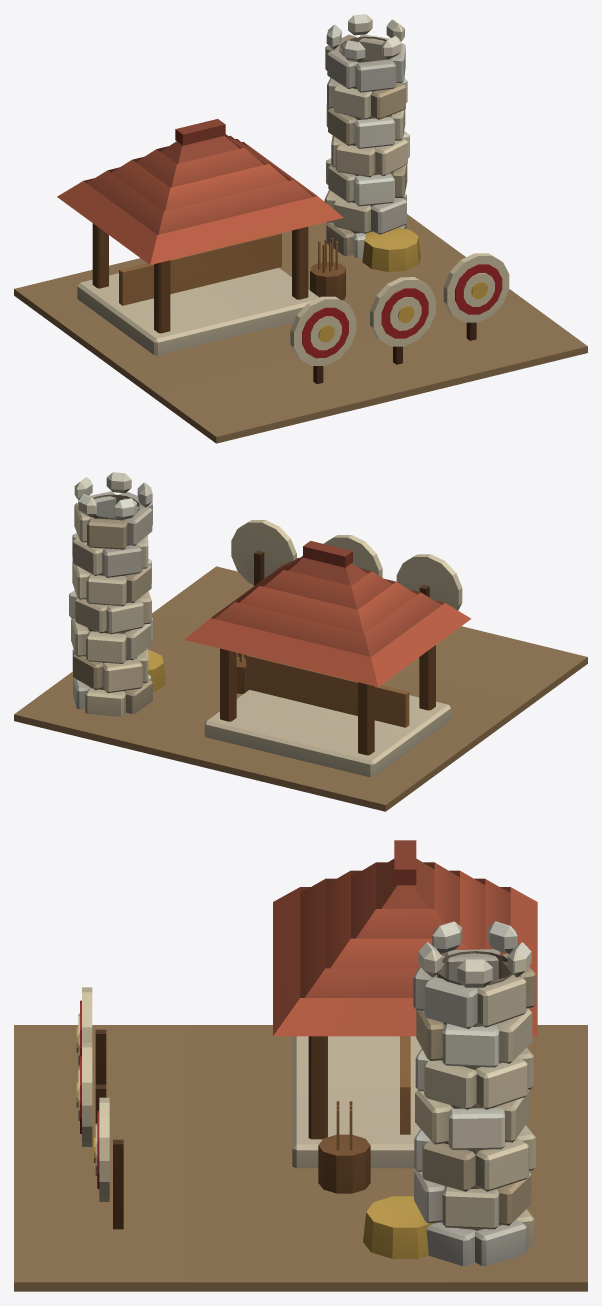
The model's file is b_archery.glb.
3 renders of one model, top to bottom at view 1: azimuth 30°, elevation 25°; view 2: azimuth 150°, elevation 25°; view 3: azimuth 270°, elevation 25°, orthographic. The views are drawn at different scales.
Parts seen in each view (by area): view 1: b_archery, L3, L2; view 2: b_archery, L3, L2; view 3: b_archery, L3, L2.
Part boxes in pixels (x1=…): b_archery: x1=14, y1=119, x2=587, y2=443; L3: x1=290, y1=14, x2=409, y2=384; L2: x1=362, y1=227, x2=435, y2=364; b_archery: x1=14, y1=520, x2=587, y2=811; L3: x1=69, y1=472, x2=462, y2=716; L2: x1=148, y1=535, x2=382, y2=691; b_archery: x1=14, y1=840, x2=587, y2=1291; L3: x1=76, y1=921, x2=536, y2=1266; L2: x1=76, y1=1042, x2=436, y2=1258.
Size of the model in its own units: 0.7 by 0.395 by 0.66.
